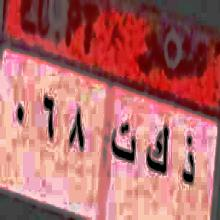0: (15, 94, 29, 139)
6: (41, 89, 57, 148)
8: (68, 103, 85, 161)
kaaf: (148, 120, 169, 197)
taa: (112, 121, 136, 179)
zaal: (178, 130, 198, 198)
